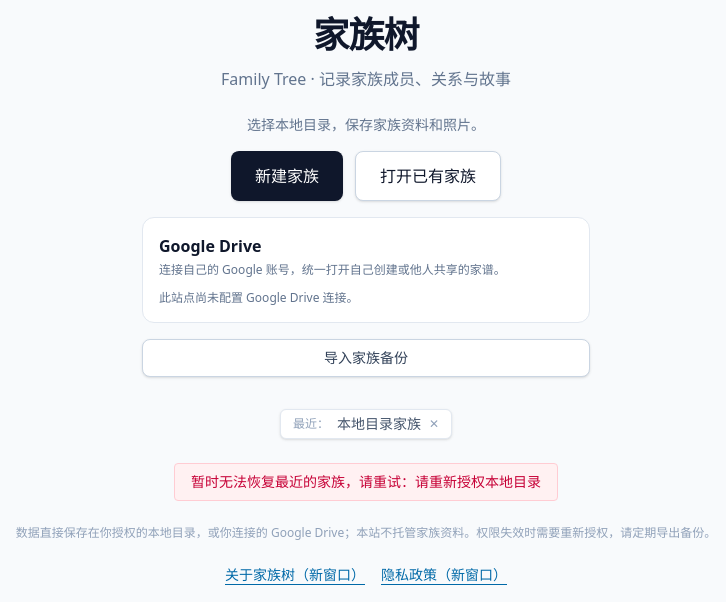
Welcome browser directory storage › retains a recent directory when permission is denied and restores the retry control
The width and height of the screenshot is (726, 602).
Click the button "本地目录家族" at (379, 424), box 337,414 -> 421,434
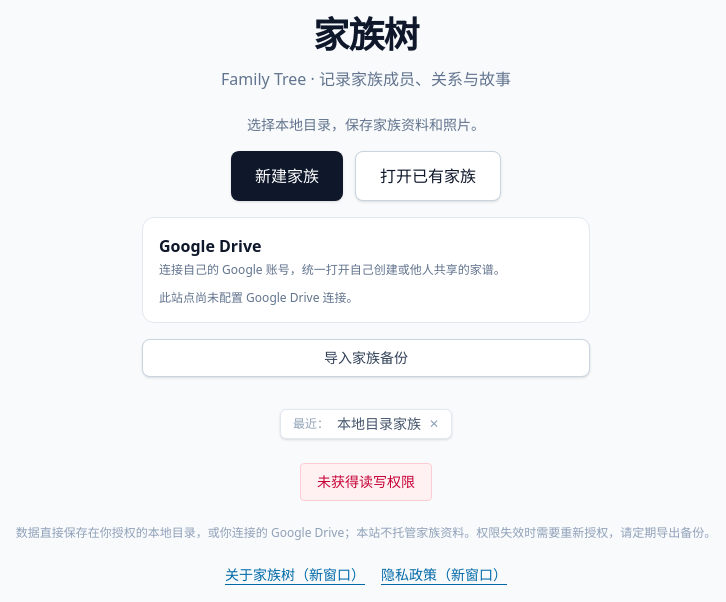
Expected: the text "未获得读写权限" is shown, 300,463 -> 432,501
